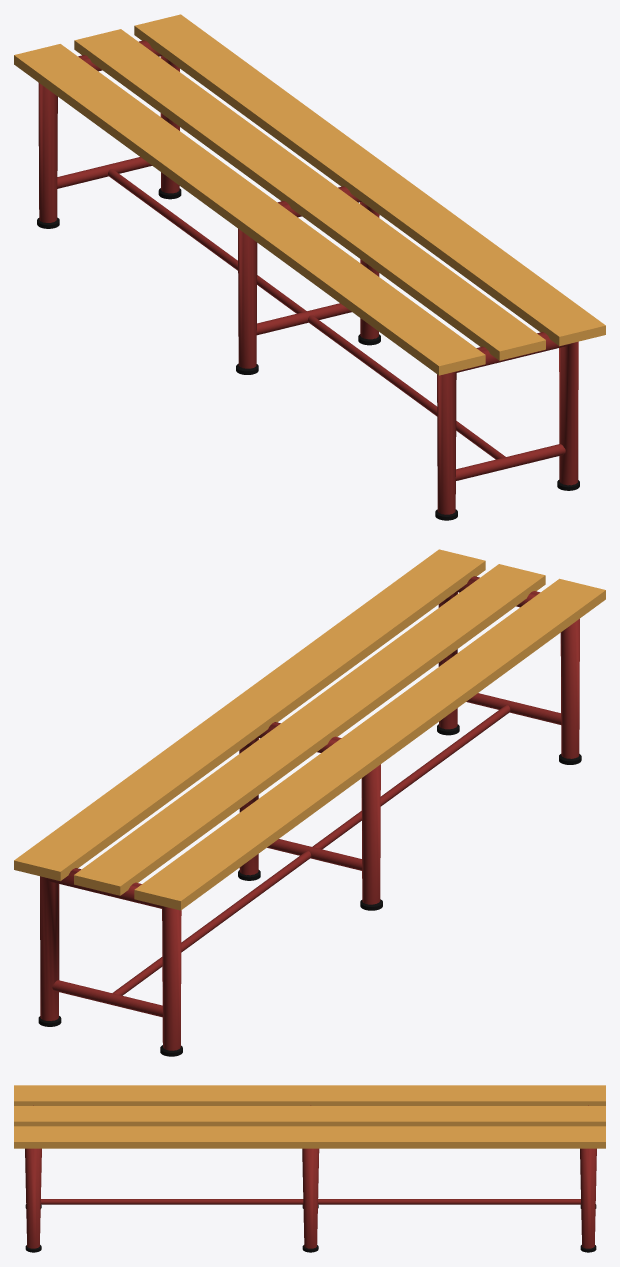
Rendered from lawka korytarz.fbx.
3 views of the same model, one above another, from view 1: azimuth 30°, elevation 25°; view 2: azimuth 150°, elevation 25°; view 3: azimuth 270°, elevation 25° (orthographic). The views are drawn at different scales.
Parts seen in each view (by area): view 1: Cube.002; view 2: Cube.002; view 3: Cube.002.
Part boxes in pixels (x1,y1,x2,y2): Cube.002: (14, 14, 605, 520); Cube.002: (14, 549, 605, 1056); Cube.002: (14, 1085, 605, 1252).
Bounding box in the file's own units: 137 × 129 × 603.
